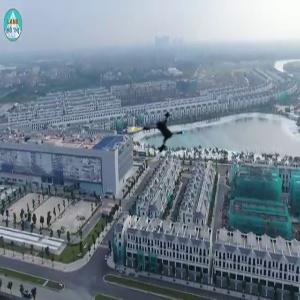drone: (127, 106, 186, 165)
